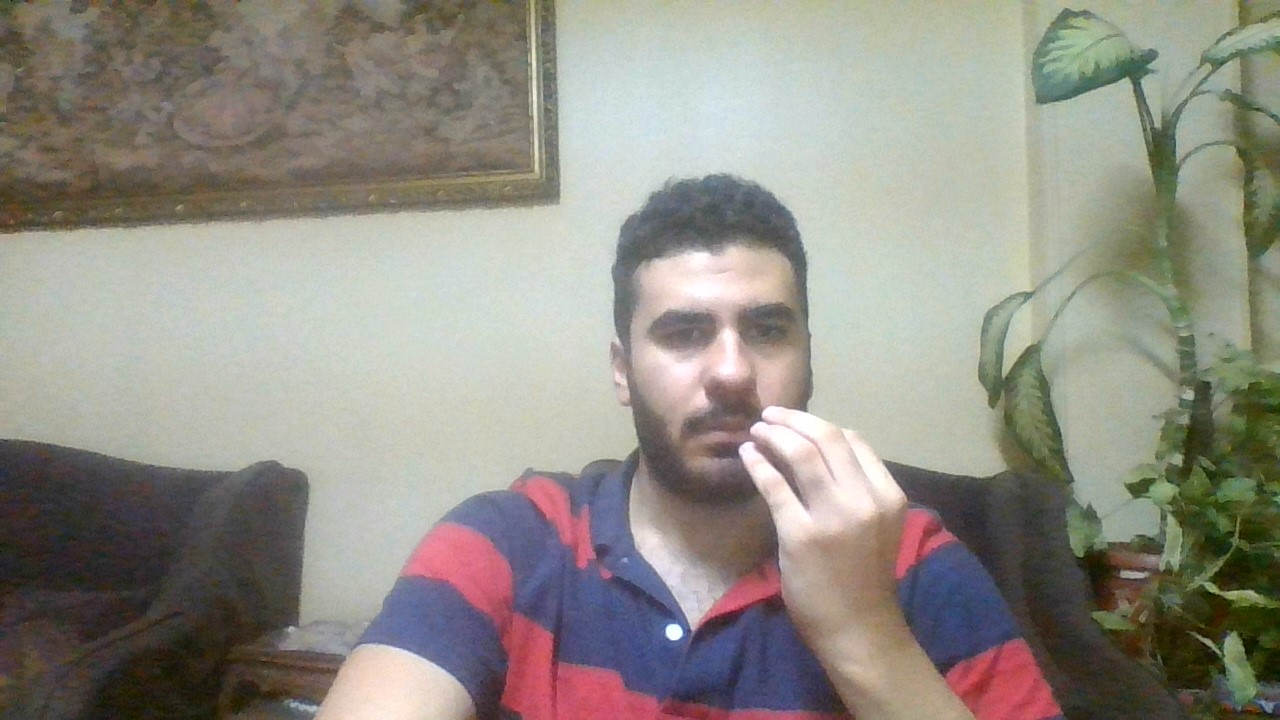eat: (719, 402, 929, 658)
